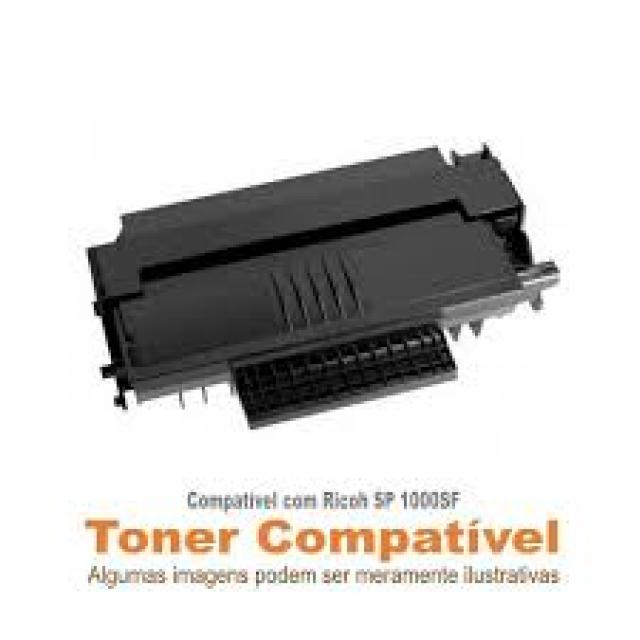printer: (59, 136, 559, 446)
